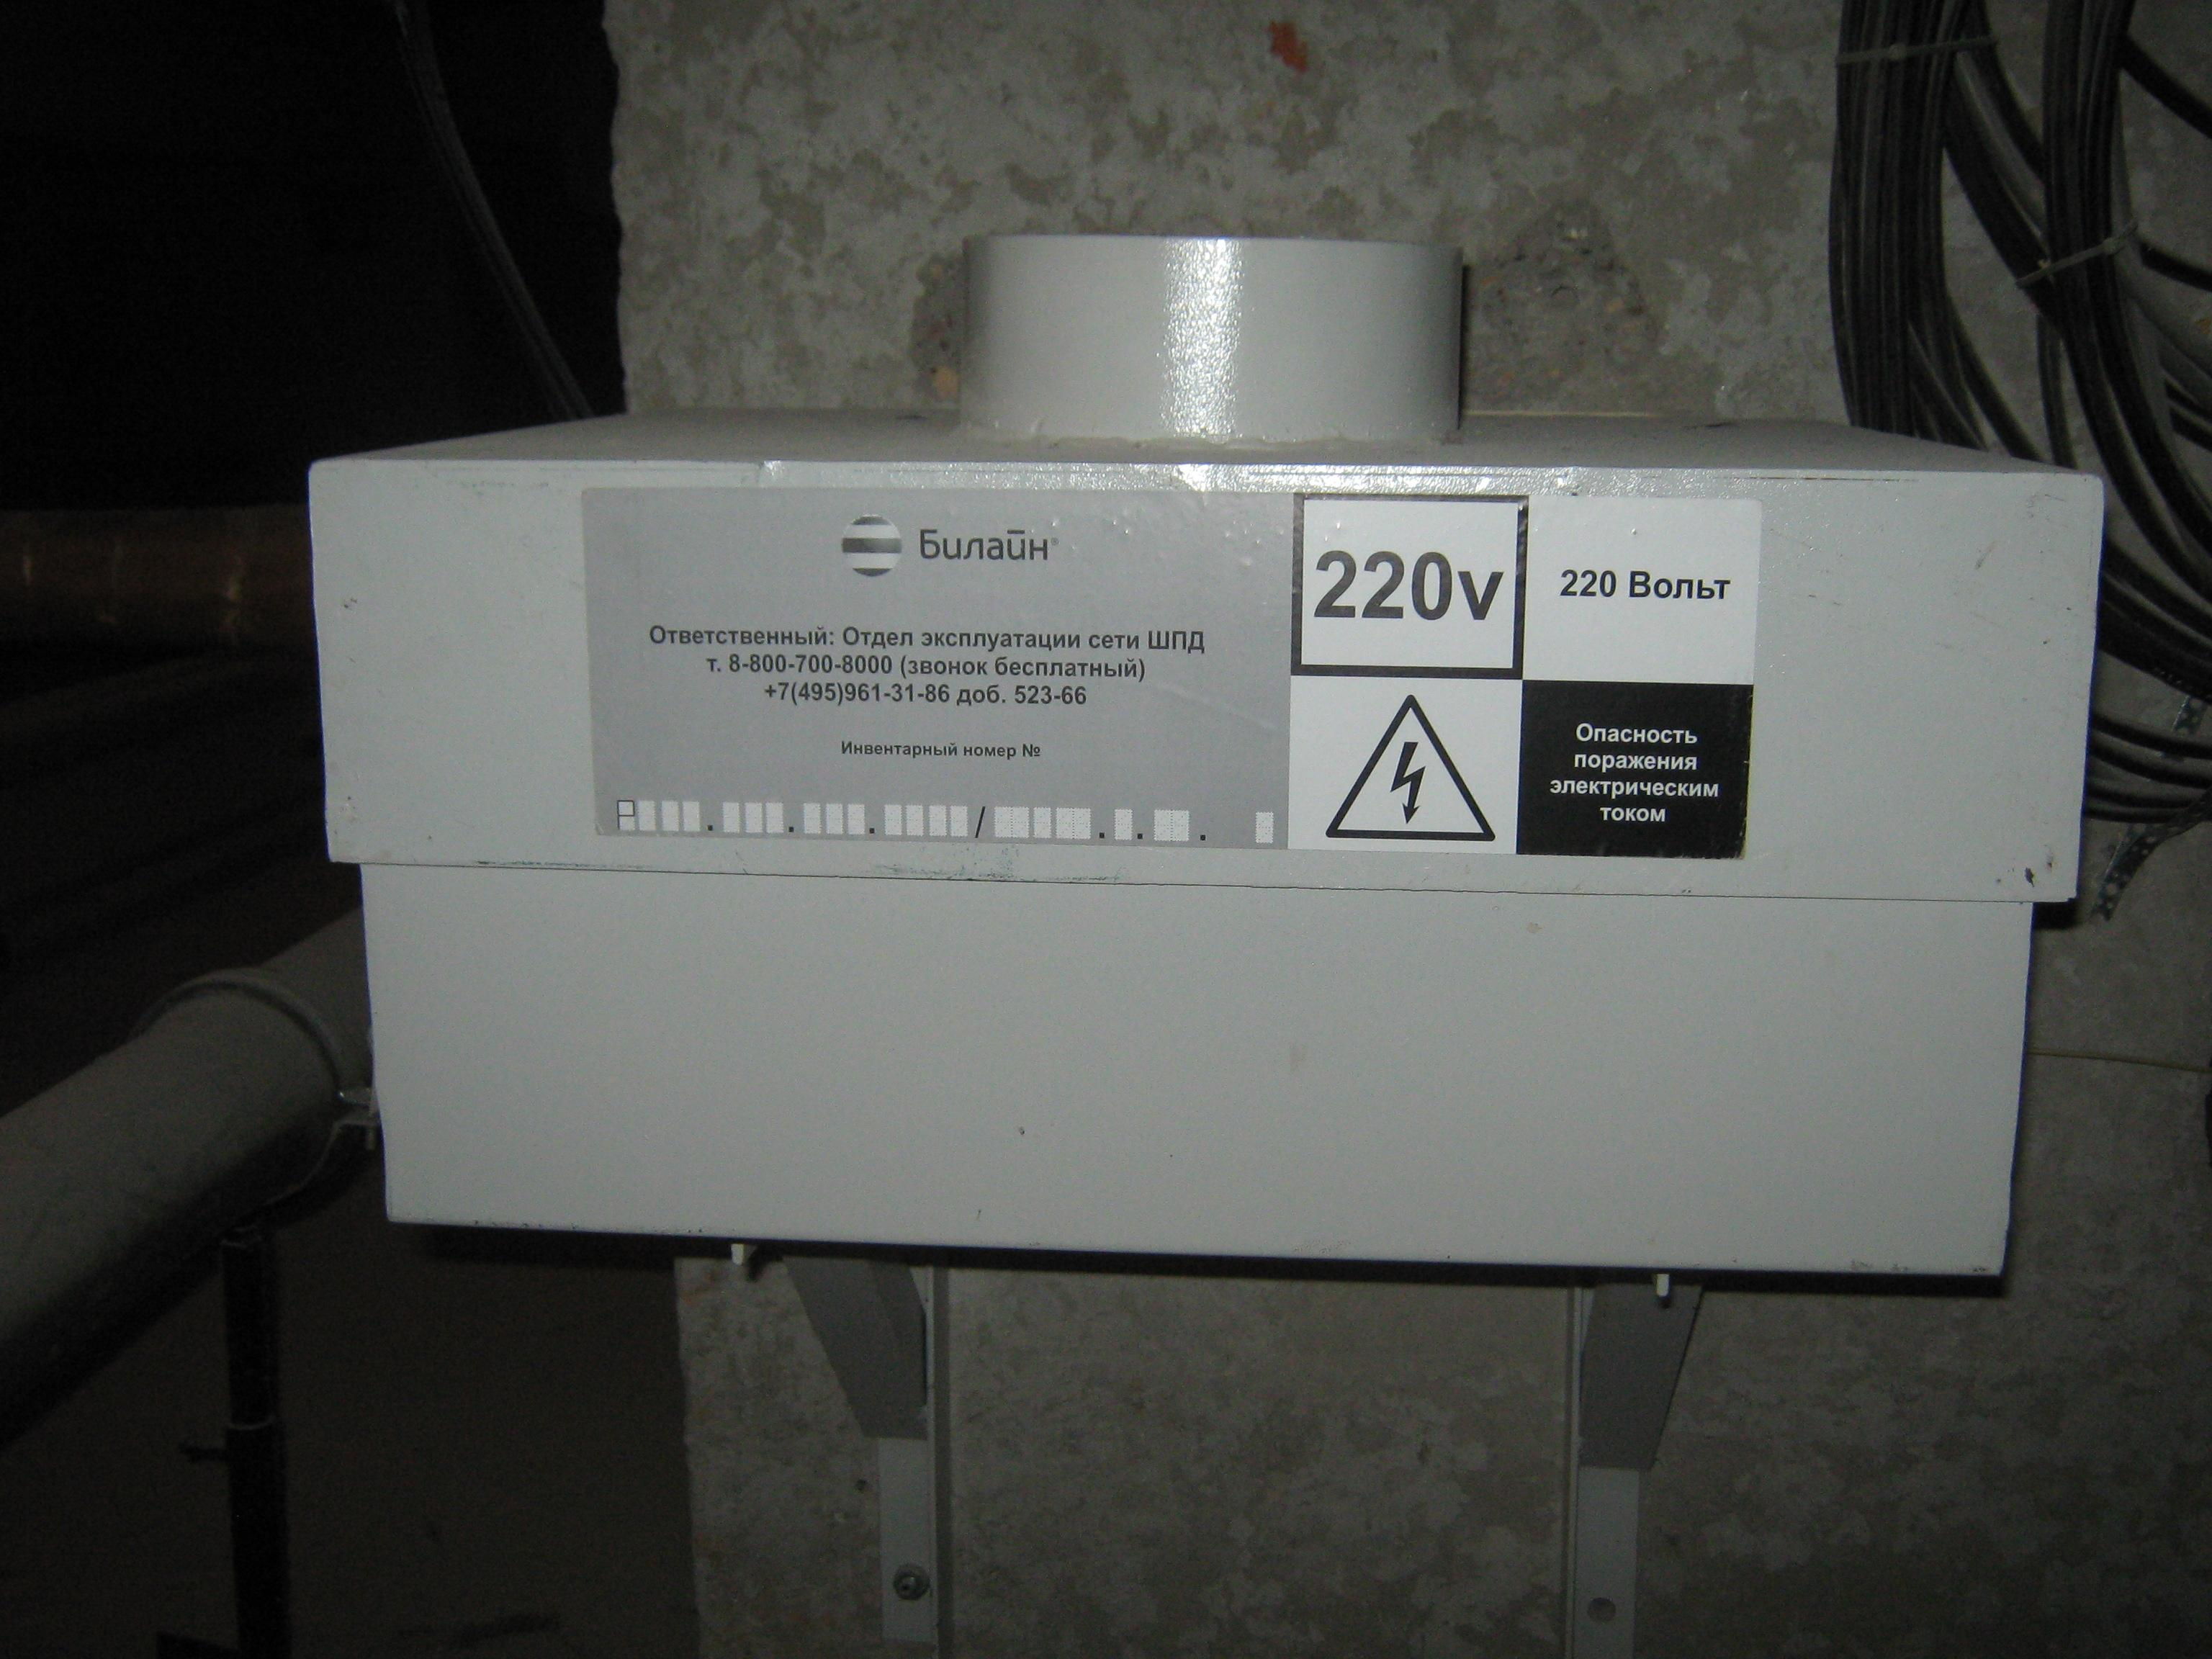shta-ps: (280, 206, 2120, 1309)
